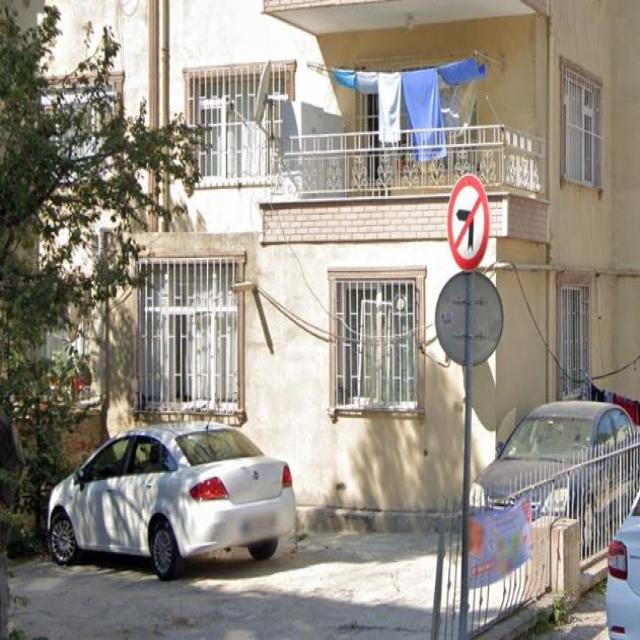soladonulmez: (448, 174, 488, 271)
